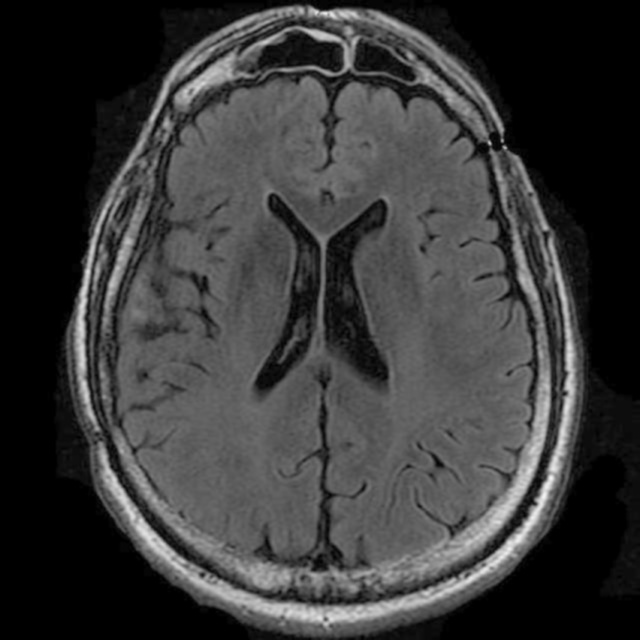glioma tumor: (193, 62, 505, 560)
